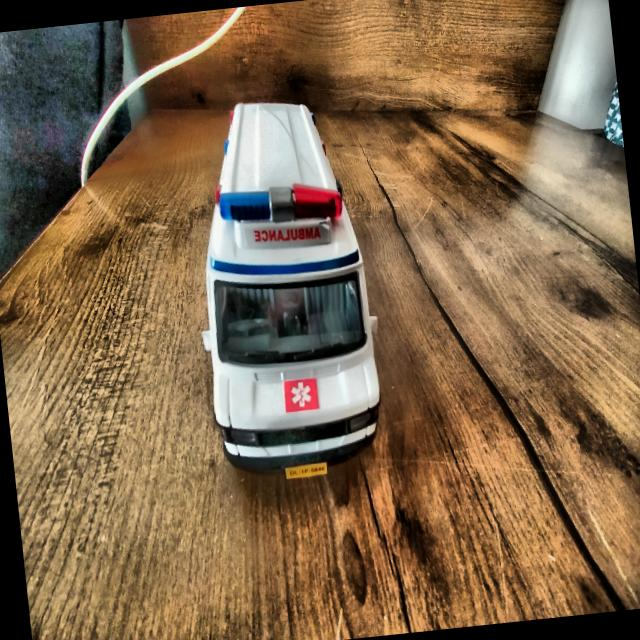Ambulance: (180, 92, 390, 474)
